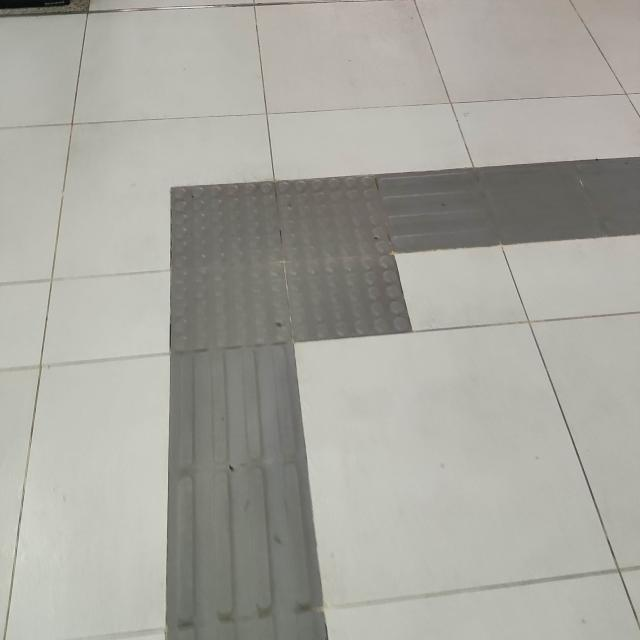kanan: (103, 141, 570, 429)
